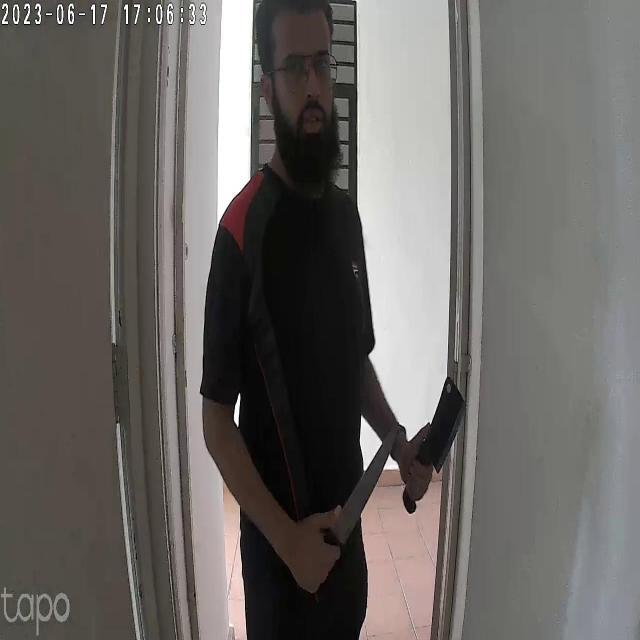Knife: (315, 423, 403, 582), (403, 380, 470, 512)
